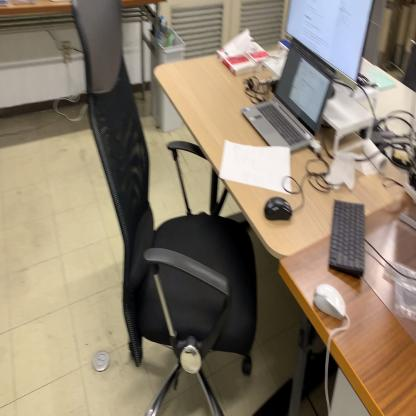chair: (71, 1, 257, 413)
